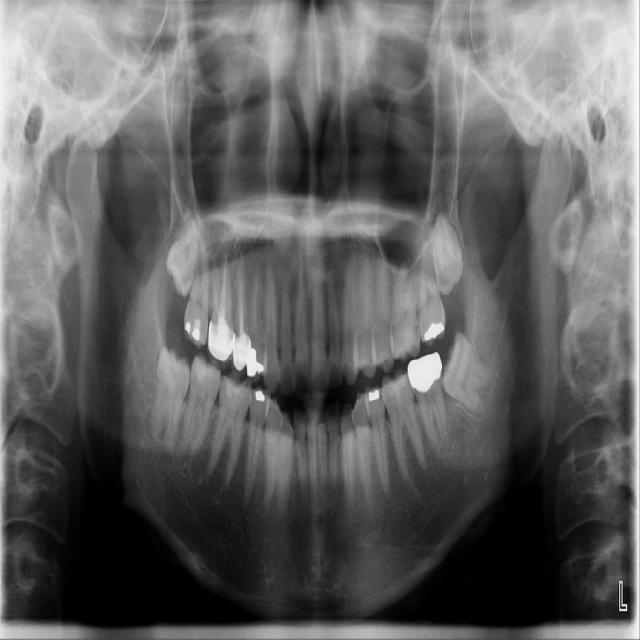Crown: (206, 320, 236, 370), (407, 351, 442, 393), (232, 333, 251, 378)
Filling: (247, 342, 268, 383), (182, 315, 205, 344), (226, 376, 246, 404), (422, 320, 445, 341), (195, 358, 213, 379), (252, 392, 267, 405), (368, 389, 381, 404)
Root Canal Treatment: (222, 255, 228, 306), (242, 268, 246, 327), (215, 258, 220, 304)
impacted tooth: (443, 332, 496, 414), (151, 348, 190, 448), (166, 206, 202, 295), (430, 209, 462, 291)
